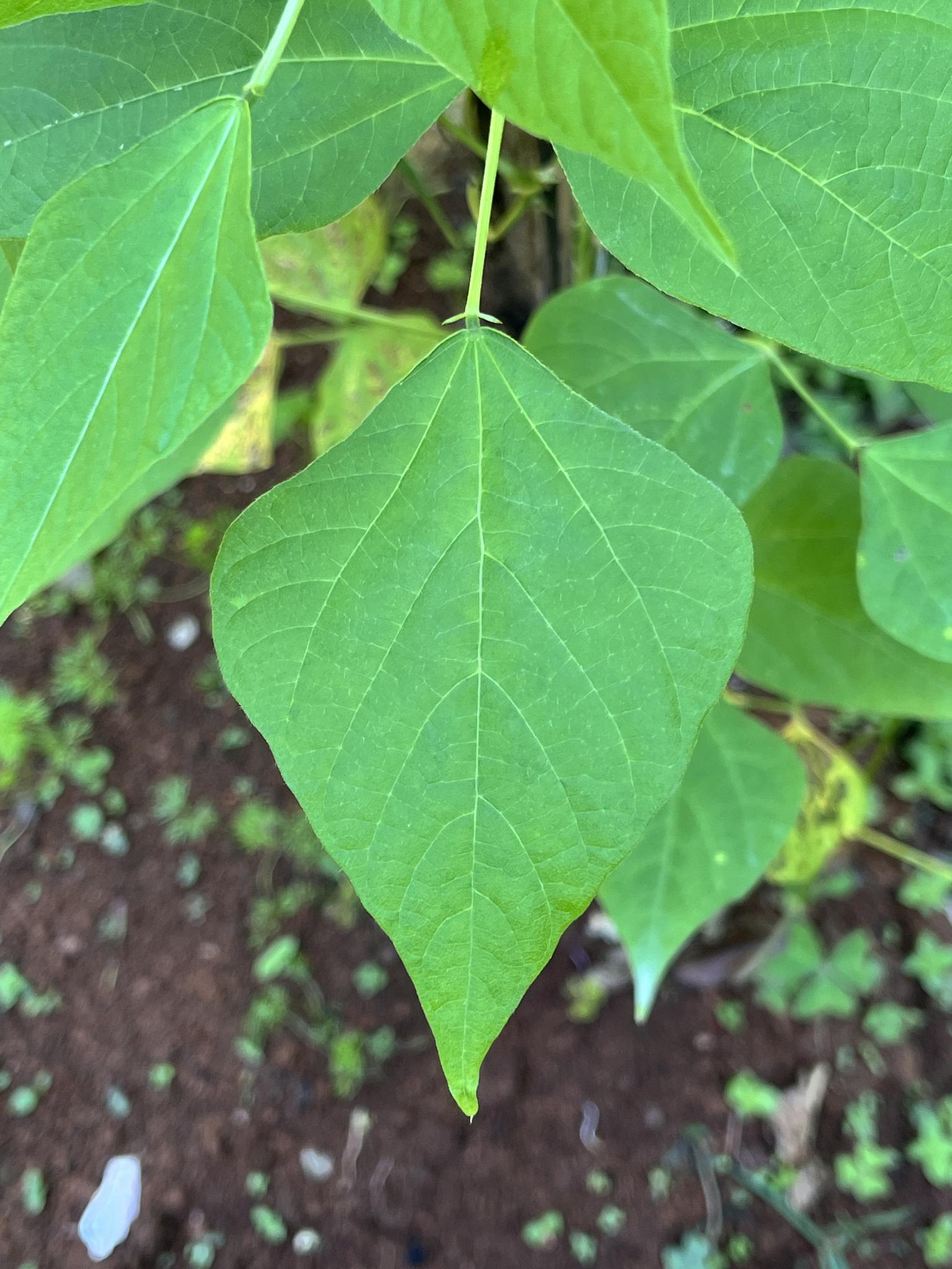sehat: (200, 322, 775, 1133)
